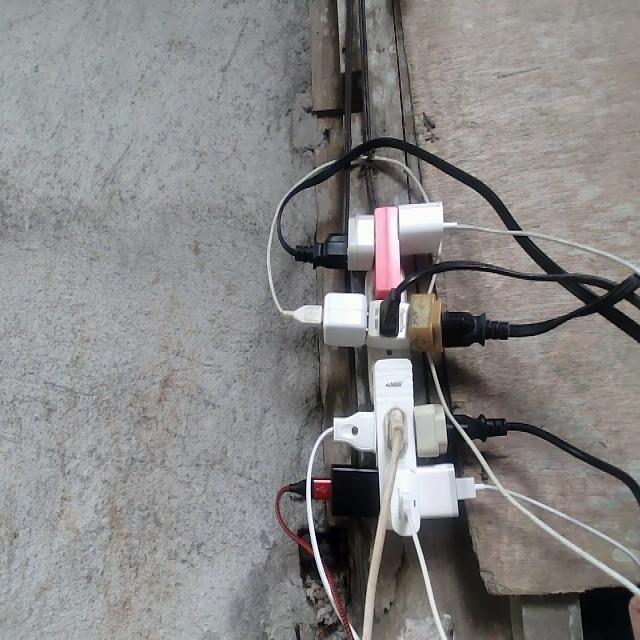-: (263, 132, 511, 547)
